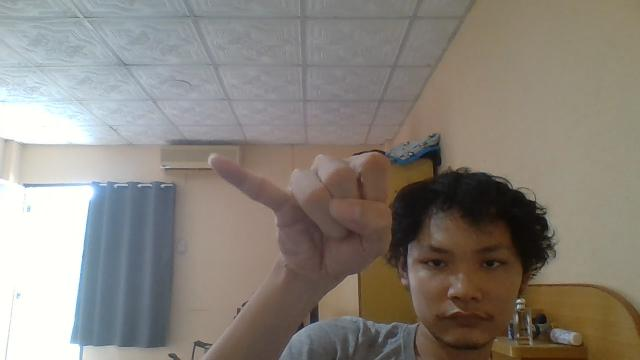Right: (205, 149, 393, 275)
